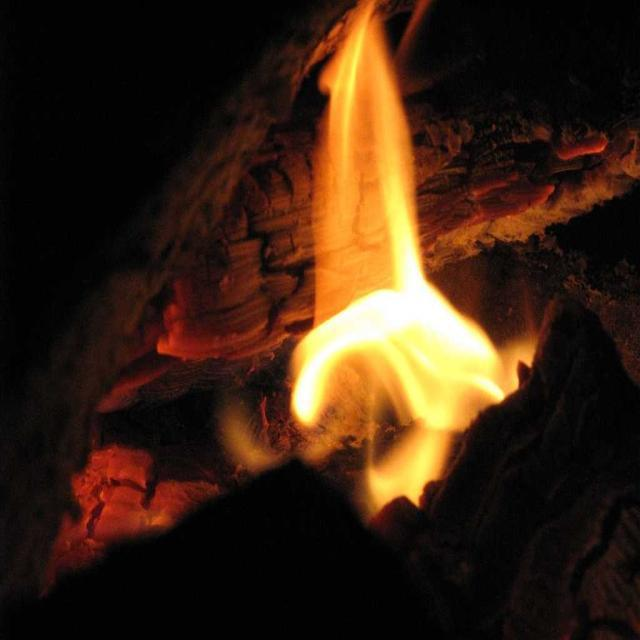Fire: (318, 140, 416, 468), (428, 295, 472, 433)
